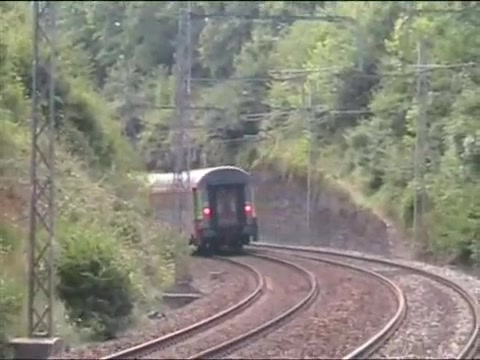train: (135, 163, 260, 260)
